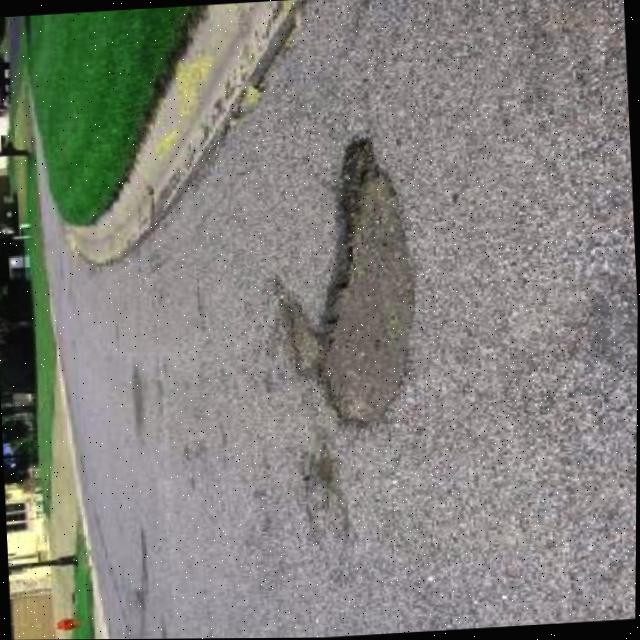Pothole: (300, 132, 423, 433), (273, 286, 320, 376), (311, 444, 341, 485)
